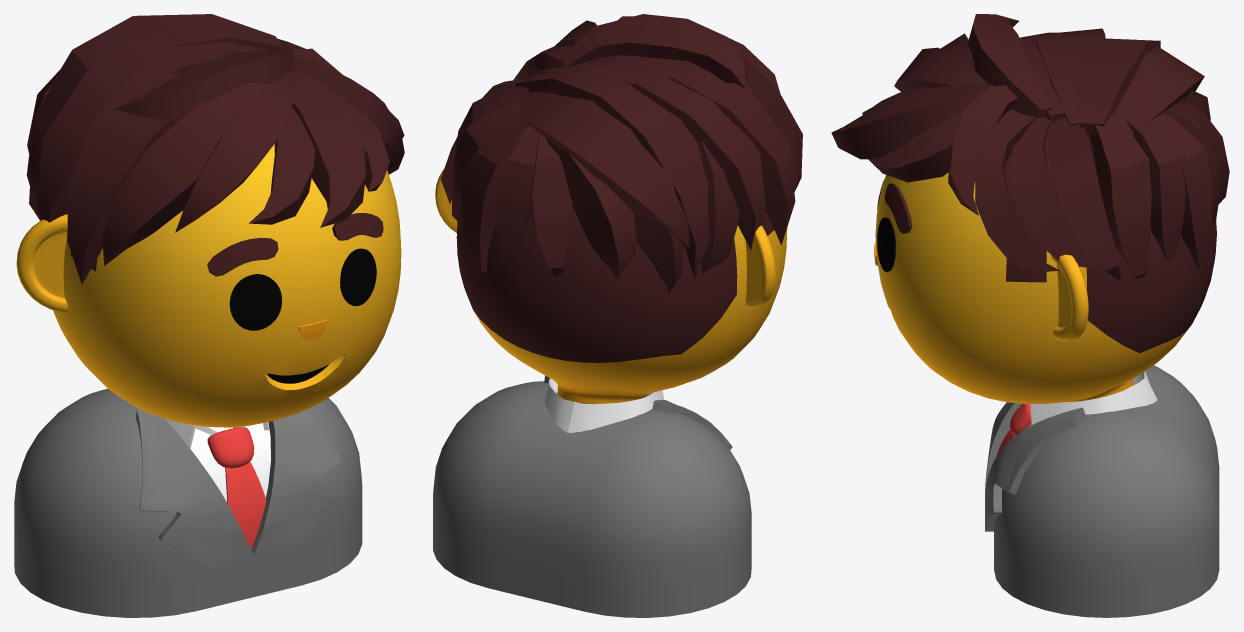
File: office_worker.glb
3 views of the same model, side by side, from view 1: azimuth 30°, elevation 25°; view 2: azimuth 150°, elevation 25°; view 3: azimuth 270°, elevation 25° (orthographic). The views are drawn at different scales.
Parts seen in each view (by area): view 1: Cube.1340, Roundcube.108, Sphere.070, Circle.656, Circle.653, Cylinder.094, Circle.655, Circle.657, Cube.1348, Plane.053; view 2: Cube.1340, Sphere.070, Roundcube.108, Plane.053, Cylinder.094, Circle.656; view 3: Cube.1340, Roundcube.108, Sphere.070, Circle.656, Cylinder.094, Plane.053, Circle.653, Circle.655.
Boxes of the visible parts, <box> form: Cube.1340: <box>26,14,404,284</box>; Roundcube.108: <box>53,144,401,427</box>; Sphere.070: <box>14,388,362,617</box>; Circle.656: <box>135,408,341,581</box>; Circle.653: <box>229,248,376,330</box>; Cylinder.094: <box>16,214,68,312</box>; Circle.655: <box>207,213,383,276</box>; Circle.657: <box>225,461,266,549</box>; Cube.1348: <box>207,427,254,468</box>; Plane.053: <box>165,418,268,448</box>; Cube.1340: <box>440,14,802,292</box>; Sphere.070: <box>433,381,751,617</box>; Roundcube.108: <box>456,206,787,404</box>; Plane.053: <box>544,378,664,432</box>; Cylinder.094: <box>435,169,775,307</box>; Circle.656: <box>544,375,732,449</box>; Cube.1340: <box>831,14,1229,282</box>; Roundcube.108: <box>875,110,1216,403</box>; Sphere.070: <box>994,365,1219,617</box>; Circle.656: <box>985,402,1085,531</box>; Cylinder.094: <box>1051,254,1088,341</box>; Plane.053: <box>1030,371,1157,424</box>; Circle.653: <box>877,179,895,271</box>; Circle.655: <box>884,183,912,233</box>.
Bounding box in the file's own units: 1.76 × 2.48 × 1.77.
Materials: 2 (2 with a texture image).
